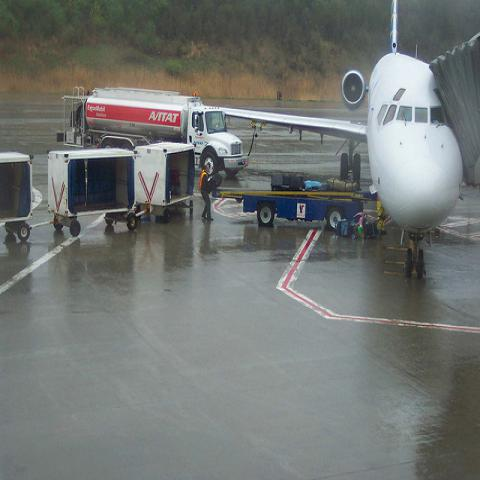truck: (86, 86, 249, 177), (0, 151, 43, 241), (134, 142, 195, 205)
